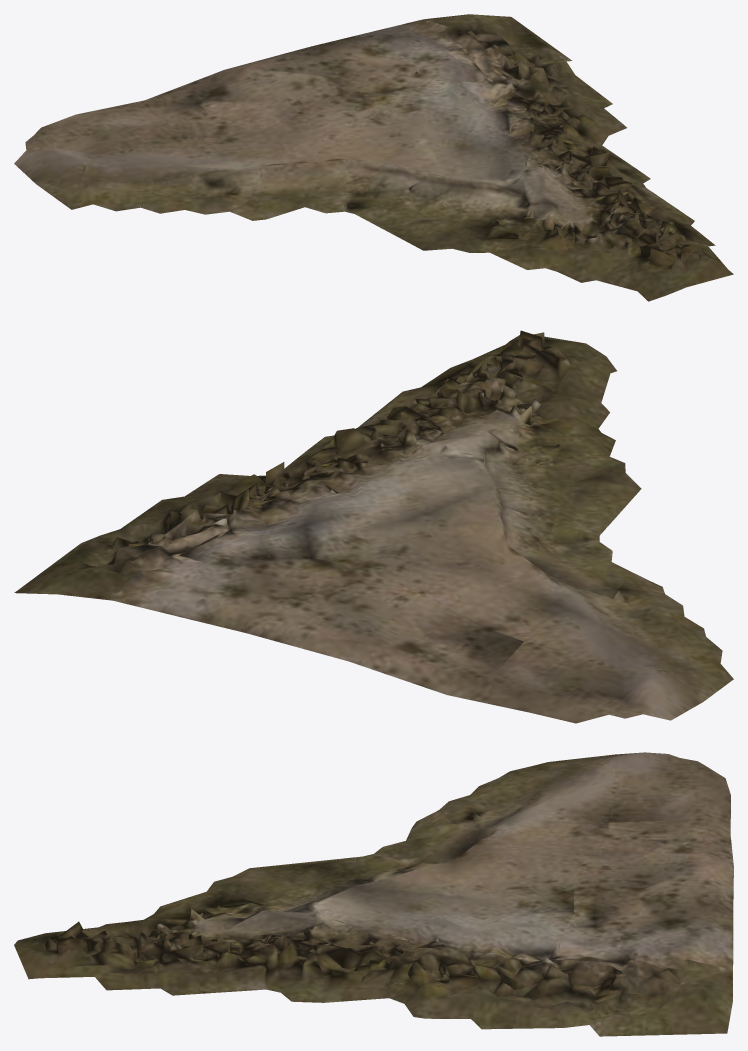
File: coast_rocks_02.lod.glb
The picture shows the model from 3 angles, top to bottom: view 1: azimuth 30°, elevation 25°; view 2: azimuth 150°, elevation 25°; view 3: azimuth 270°, elevation 25°; orthographic projection. The views are drawn at different scales.
Visible parts, largest first — view 1: coast_rocks_02; view 2: coast_rocks_02; view 3: coast_rocks_02.
Part boxes in pixels (x1,y1,x2,y2): coast_rocks_02: [14, 14, 733, 301]; coast_rocks_02: [14, 330, 733, 723]; coast_rocks_02: [14, 752, 733, 1036].
Size of the model in its own units: 45.69 by 2.96 by 49.46.
1 material, 1 textured.
